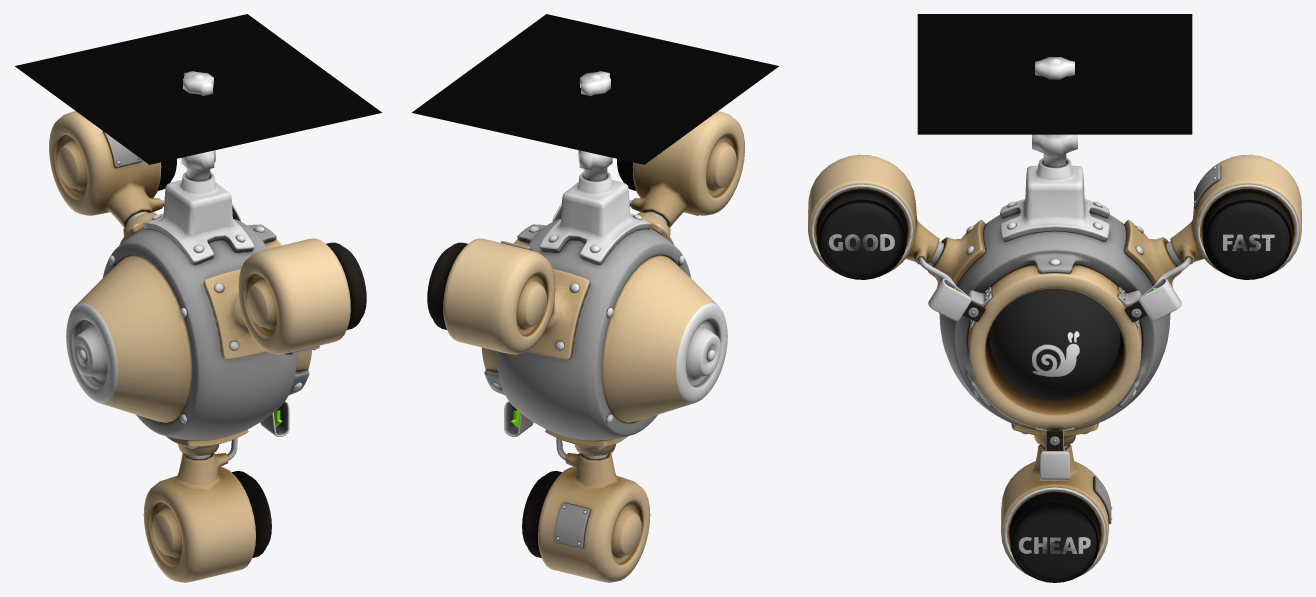
The model's file is gfc-hq.glb.
The picture shows the model from 3 angles, left to right: view 1: azimuth 30°, elevation 25°; view 2: azimuth 150°, elevation 25°; view 3: azimuth 270°, elevation 25°; orthographic projection.
Parts seen in each view (by area): view 1: casing, propeller, button1, button3; view 2: casing, propeller, button2, button3; view 3: casing, propeller, sphere, button3, button1, button2, light2, light3, light1.
Part boxes in pixels (bbox=[...]): casing: bbox=[49, 111, 350, 582]; propeller: bbox=[15, 14, 381, 181]; button1: bbox=[326, 242, 366, 329]; button3: bbox=[232, 471, 271, 557]; casing: bbox=[443, 111, 744, 582]; propeller: bbox=[412, 14, 778, 181]; button2: bbox=[427, 242, 467, 329]; button3: bbox=[522, 471, 561, 557]; casing: bbox=[808, 154, 1301, 577]; propeller: bbox=[917, 14, 1192, 167]; sphere: bbox=[989, 288, 1120, 400]; button3: bbox=[1009, 492, 1100, 582]; button1: bbox=[817, 189, 906, 279]; button2: bbox=[1203, 189, 1292, 279]; light2: bbox=[1197, 184, 1298, 266]; light3: bbox=[1004, 487, 1105, 568]; light1: bbox=[811, 184, 912, 266].
Size of the model in its own units: 1.18 by 2.39 by 2.11.
Materials: 2 (1 with a texture image).
